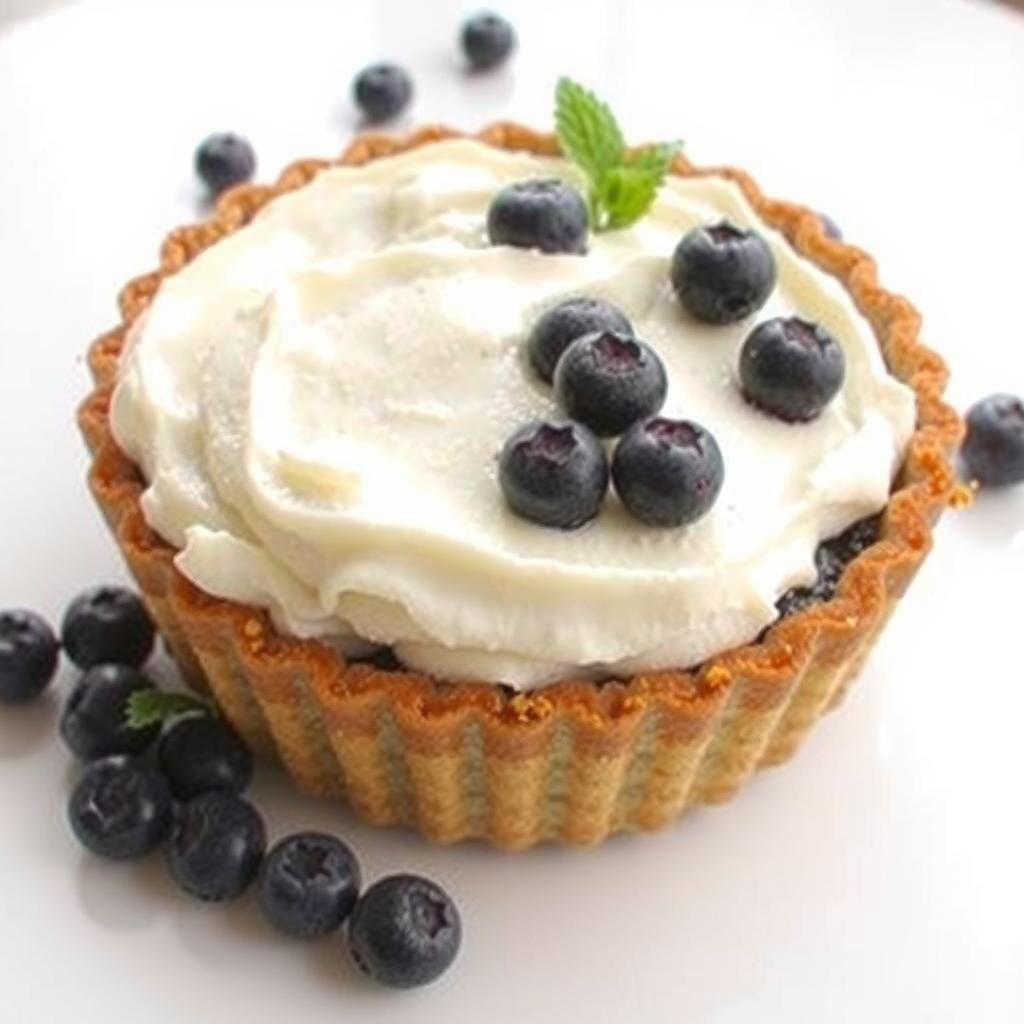pie: (73, 114, 970, 854)
